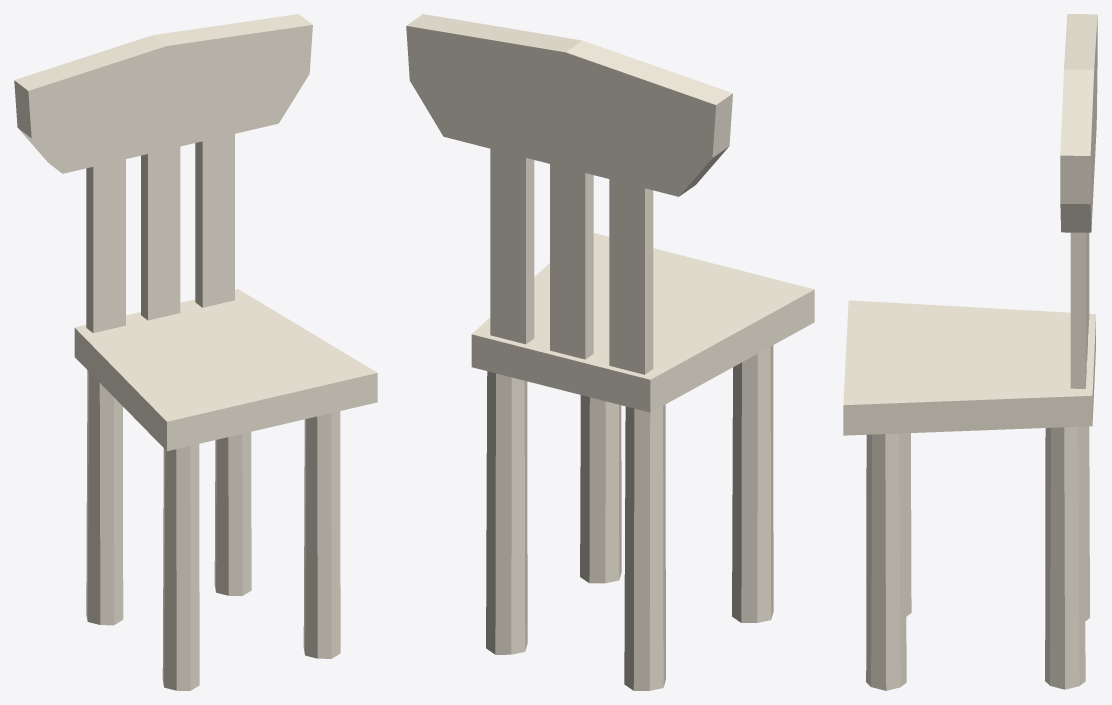
Rendered from Chair_Kitchen_2_Chair_2_231109.glb.
The picture shows the model from 3 angles, left to right: view 1: azimuth 30°, elevation 25°; view 2: azimuth 150°, elevation 25°; view 3: azimuth 270°, elevation 25°; orthographic projection. The views are drawn at different scales.
Parts seen in each view (by area): view 1: Kitchen_2_Chair_2; view 2: Kitchen_2_Chair_2; view 3: Kitchen_2_Chair_2.
Boxes of the visible parts, bbox=[...] form: Kitchen_2_Chair_2: bbox=[14, 14, 377, 690]; Kitchen_2_Chair_2: bbox=[406, 14, 814, 690]; Kitchen_2_Chair_2: bbox=[843, 14, 1097, 690].
Bounding box in the file's own units: 0.7918 × 1.5 × 0.5991.
1 material, 1 textured.
